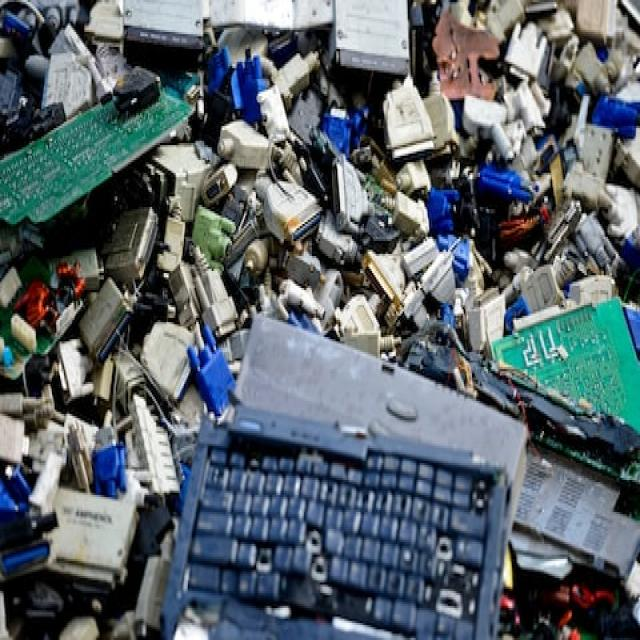Hazard: (1, 0, 640, 640)
